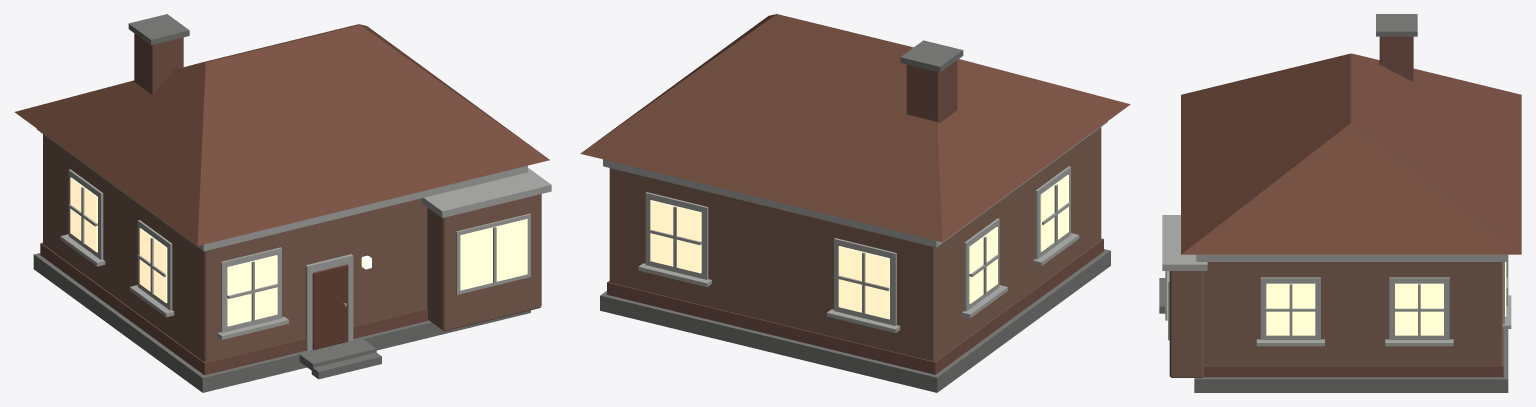
File: house_c.glb
3 renders of one model, left to right at view 1: azimuth 30°, elevation 25°; view 2: azimuth 150°, elevation 25°; view 3: azimuth 270°, elevation 25°, orthographic. The views are drawn at different scales.
Parts seen in each view (by area): view 1: roof, walls, windows, chimney, door; view 2: walls, roof, windows, chimney; view 3: roof, walls, windows, chimney.
Part boxes in pixels (x1,y1,x2,y2): roof: (14,24,549,245); walls: (33,129,551,392); windows: (70,177,527,326); chimney: (128,14,189,94); door: (312,264,348,349); walls: (600,121,1110,392); roof: (580,14,1130,241); windows: (650,175,1068,319); chimney: (900,40,963,123); roof: (1181,53,1521,254); walls: (1159,215,1511,392); windows: (1167,262,1506,335); chimney: (1376,14,1417,81).
Size of the model in its own units: 10 by 7.32 by 9.58.
